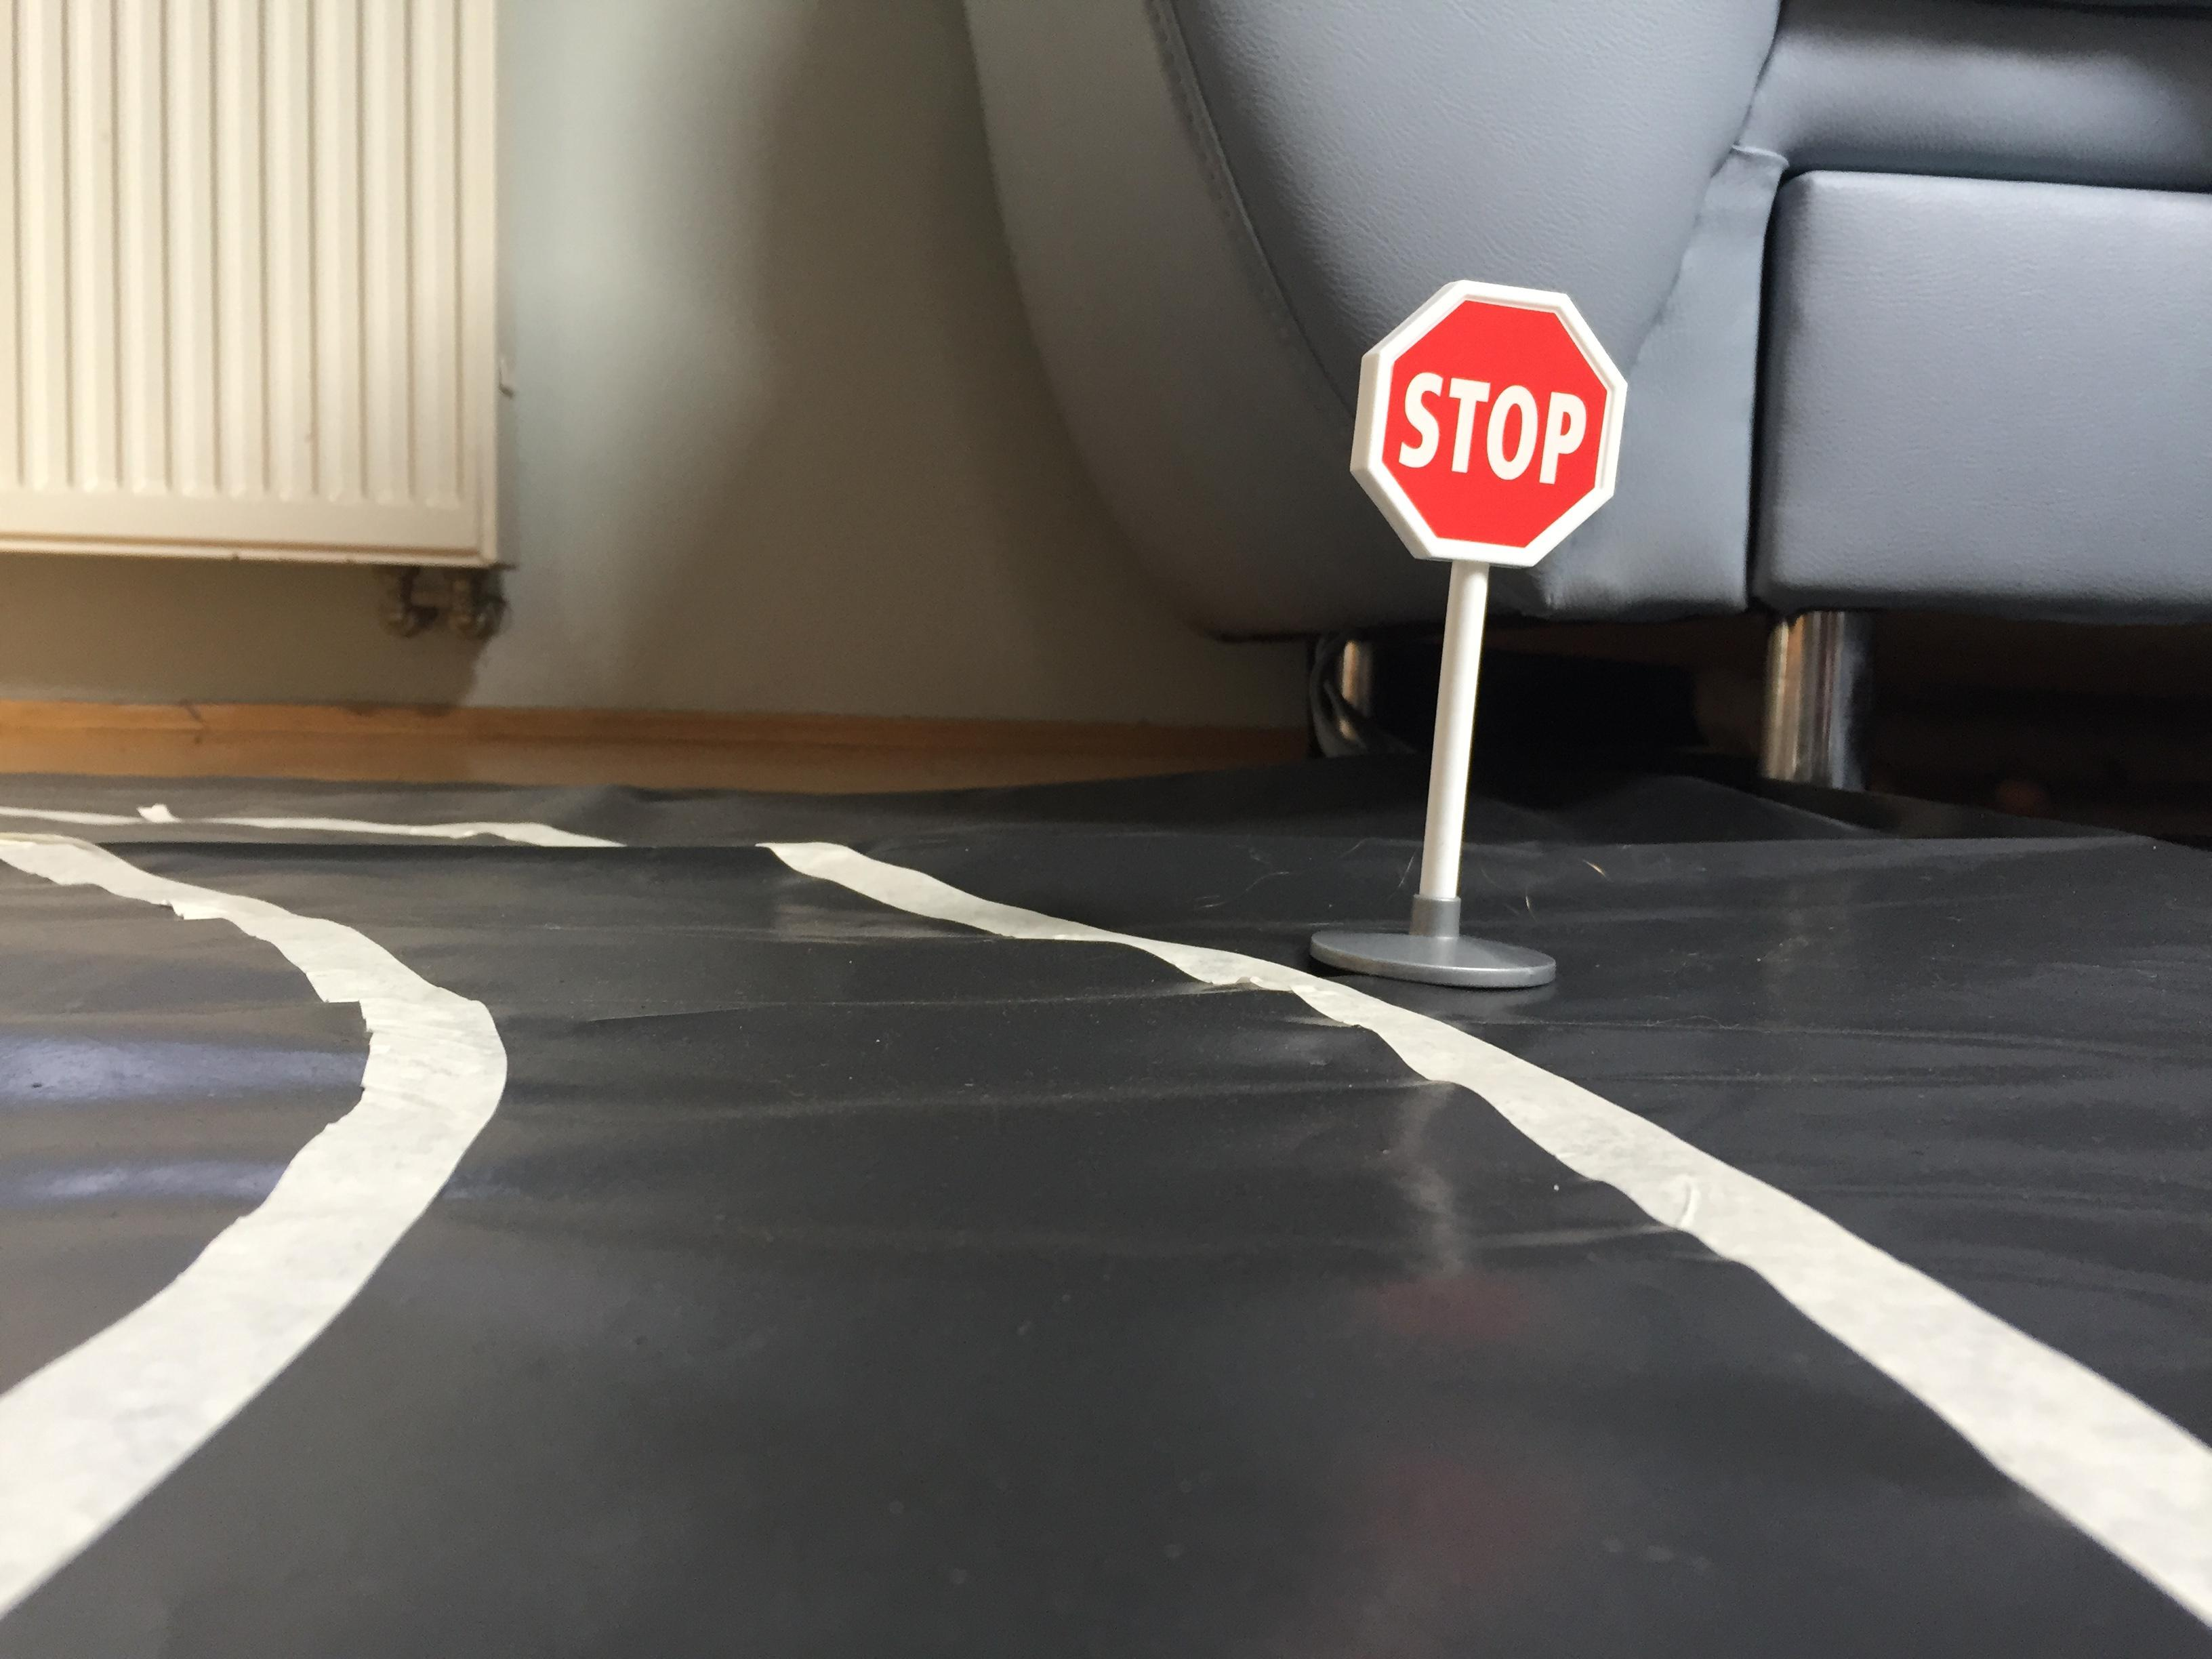stop: (1338, 272, 1646, 573)
